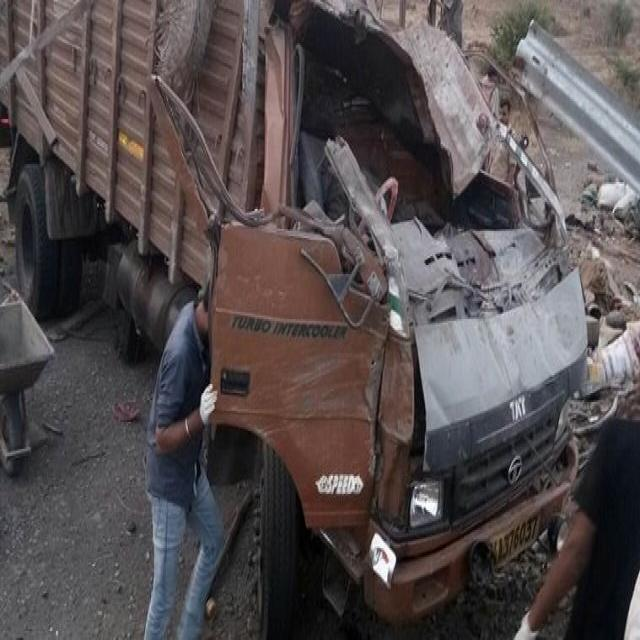accident: (0, 0, 588, 635)
